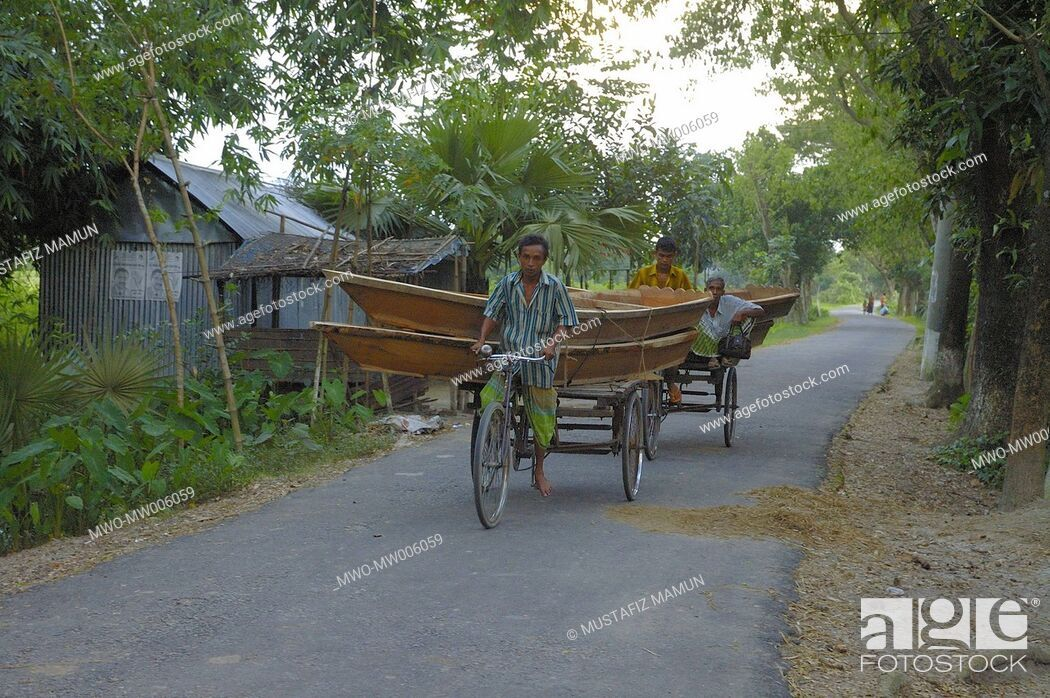wheelbarrow: (453, 345, 649, 530), (644, 359, 741, 461)
